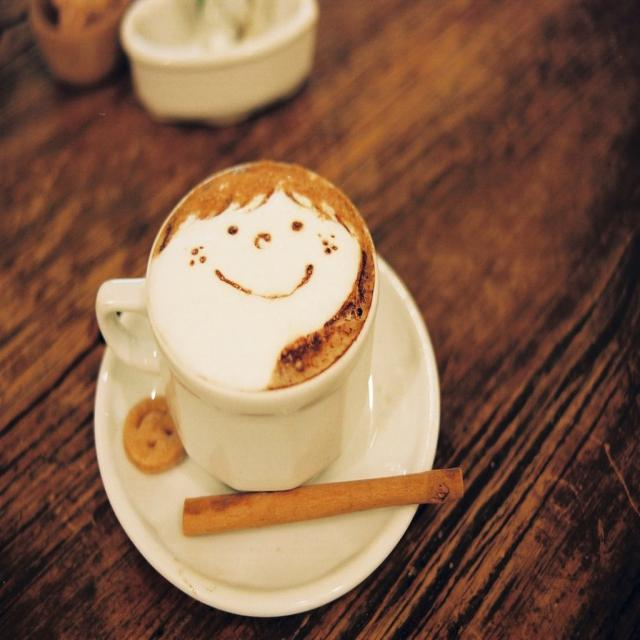Coffee: (144, 160, 375, 392)
